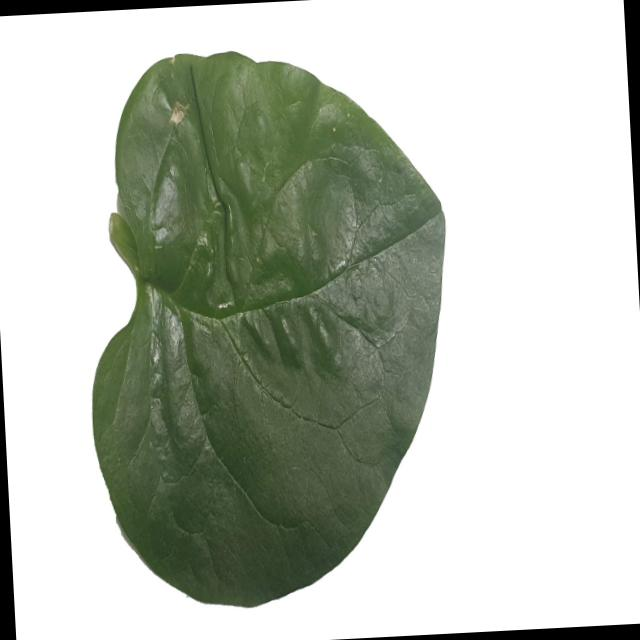Medicinal-Basale: (72, 36, 464, 614)
